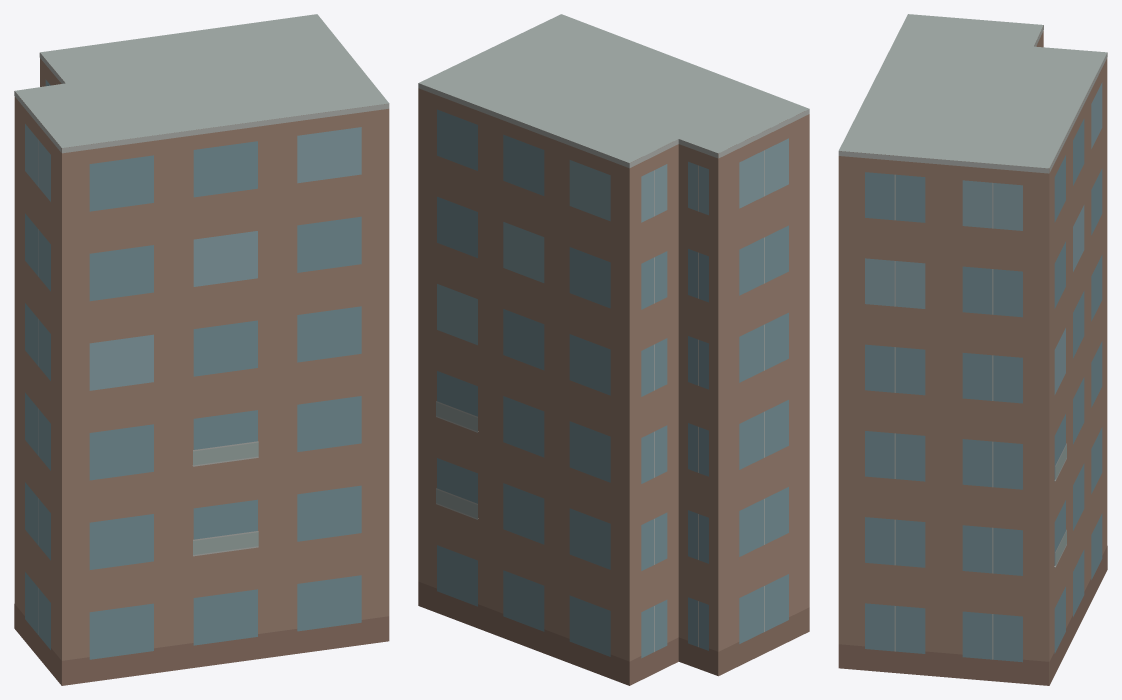
The model's file is survey-upis-32795242.glb.
3 renders of one model, left to right at view 1: azimuth 30°, elevation 25°; view 2: azimuth 150°, elevation 25°; view 3: azimuth 270°, elevation 25°, orthographic. The views are drawn at different scales.
Parts seen in each view (by area): view 1: survey-upis-32795242.tmp; view 2: survey-upis-32795242.tmp; view 3: survey-upis-32795242.tmp.
Part boxes in pixels (<box>): survey-upis-32795242.tmp: <box>14,14,389,685</box>; survey-upis-32795242.tmp: <box>418,14,809,685</box>; survey-upis-32795242.tmp: <box>838,14,1107,685</box>.
Bounding box in the file's own units: 15.89 × 24.8 × 11.69.
